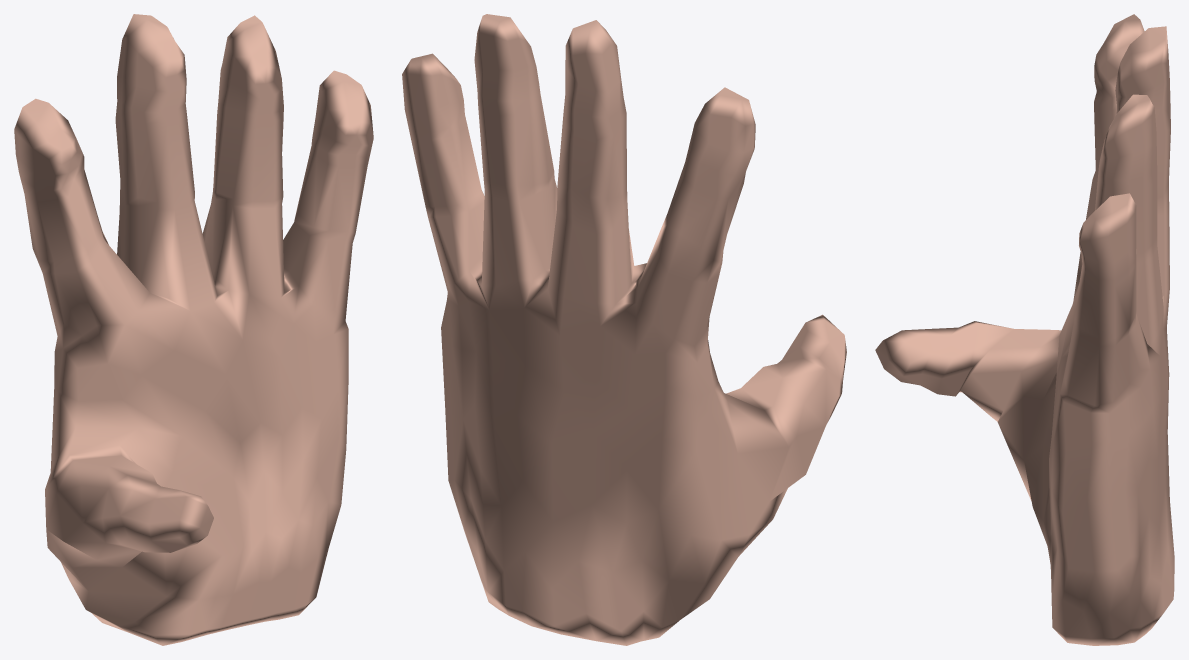
The model's file is MAO_5_COM_POLEGAR_PARA_FRENTE.obj.
3 renders of one model, left to right at view 1: azimuth 30°, elevation 25°; view 2: azimuth 150°, elevation 25°; view 3: azimuth 270°, elevation 25°, orthographic. The views are drawn at different scales.
Visible parts, largest first — view 1: mao_dir polySurface1; view 2: mao_dir polySurface1; view 3: mao_dir polySurface1.
Boxes of the visible parts, x1,y1,x2,y2 form: mao_dir polySurface1: [14, 14, 373, 645]; mao_dir polySurface1: [402, 14, 846, 645]; mao_dir polySurface1: [875, 14, 1174, 645].
Size of the model in its own units: 148 by 243 by 117.
